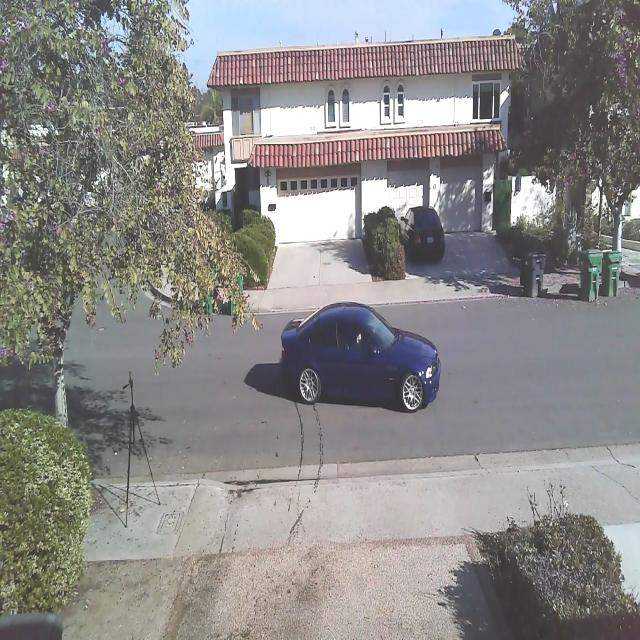Carbeetle: (275, 292, 445, 428)
Civilian: (399, 205, 446, 264)
